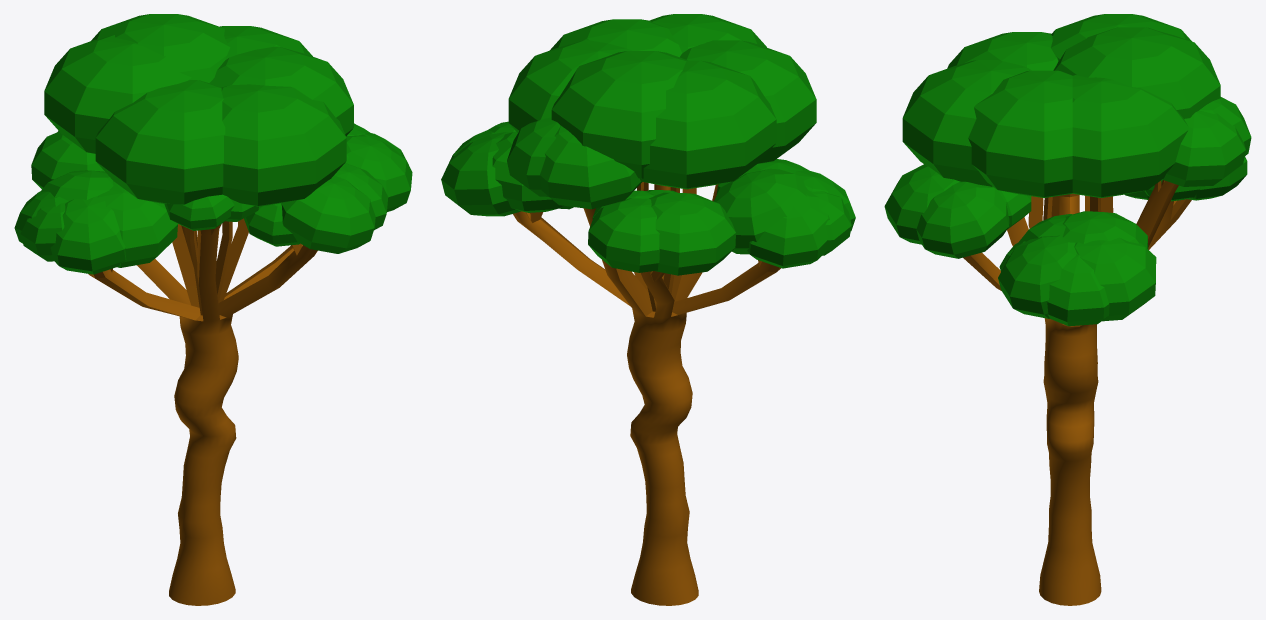
The model's file is Tree1.fbx.
3 views of the same model, side by side, from view 1: azimuth 30°, elevation 25°; view 2: azimuth 150°, elevation 25°; view 3: azimuth 270°, elevation 25° (orthographic).
Parts seen in each view (by area): view 1: polySurface67; view 2: polySurface67; view 3: polySurface67.
Part boxes in pixels (x1,y1,x2,y2): polySurface67: (14, 14, 412, 605); polySurface67: (441, 14, 855, 605); polySurface67: (884, 14, 1251, 605).
Size of the model in its own units: 23.58 by 32.42 by 19.62.
